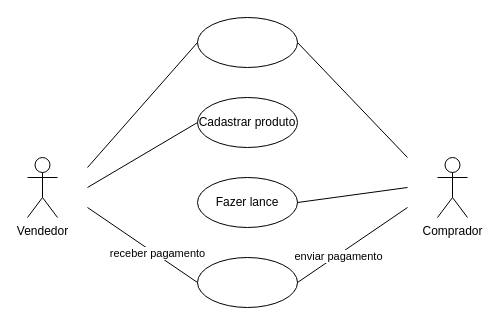
This 500x325 diagram has some shape labels left out. The shapes that lost their labels are listed below. From the top down, each one's box as (x1, y1, x2, y2) in pixels, then its label:
(196, 16, 298, 68): Criar conta
(196, 256, 298, 308): Fazer pagamento
